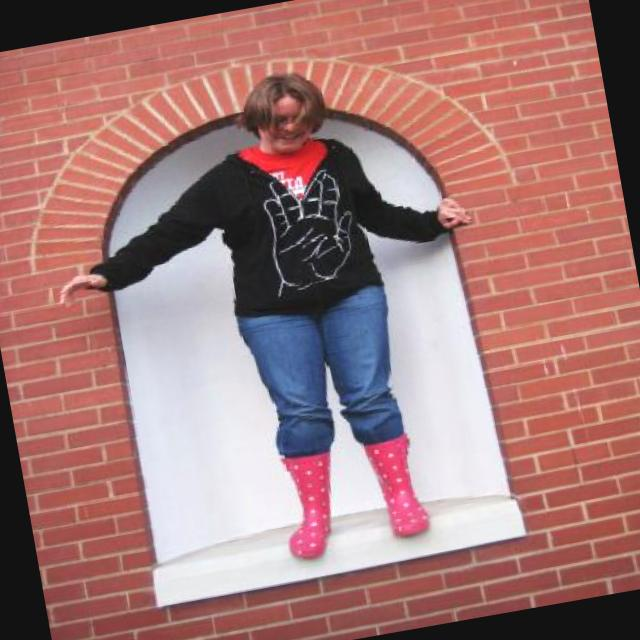Person: (28, 46, 524, 594)
